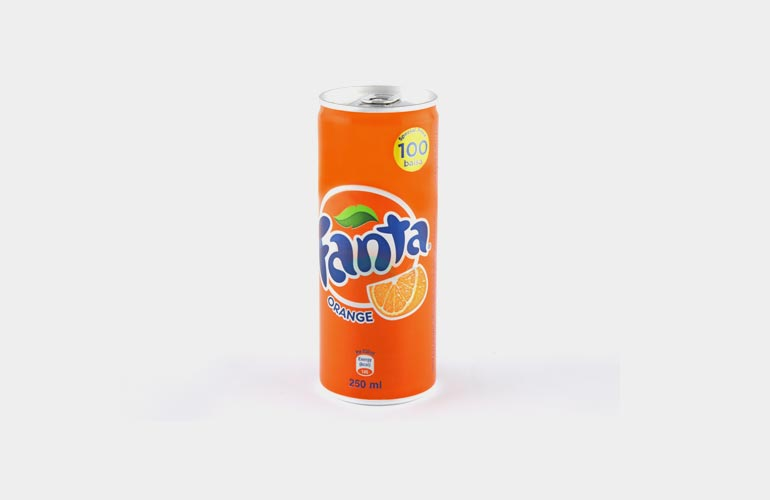Fanta: (302, 76, 455, 405)
